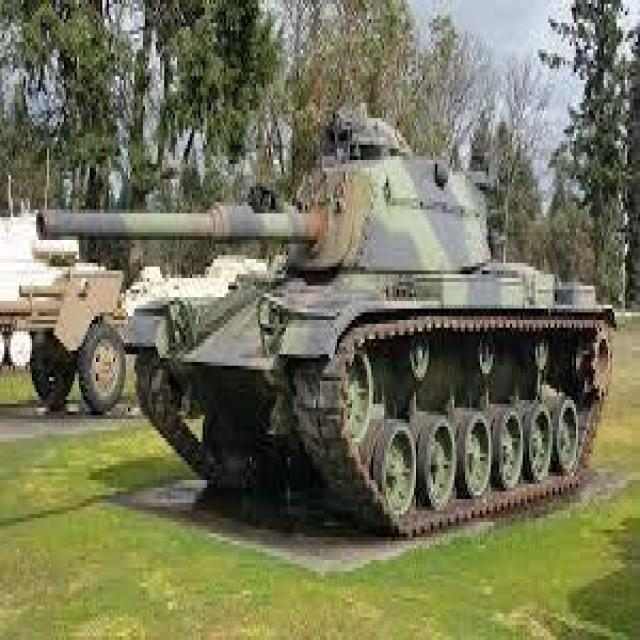MIL_MBT: (135, 170, 609, 535)
